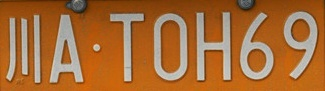A: (50, 15, 83, 83)
